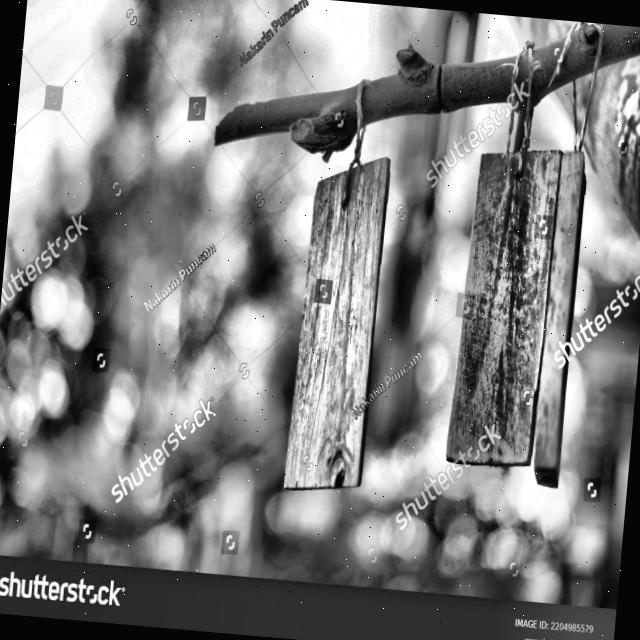hanging object: (160, 0, 640, 566)
